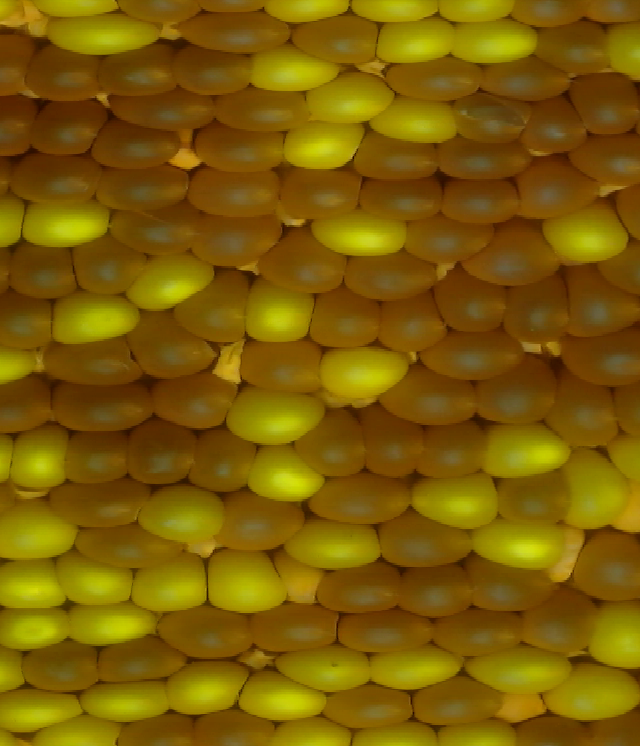fluorescent: (201, 542, 287, 615), (538, 197, 628, 265), (223, 386, 324, 446), (460, 641, 578, 692), (540, 662, 640, 721), (408, 467, 502, 529), (128, 551, 215, 616), (276, 640, 374, 697), (232, 669, 328, 727), (560, 446, 627, 529), (470, 513, 569, 569), (134, 482, 225, 542), (284, 517, 383, 572), (129, 250, 218, 311), (478, 421, 570, 479), (40, 12, 164, 55), (243, 273, 318, 344), (320, 343, 409, 402), (241, 440, 327, 500), (309, 207, 409, 258), (306, 68, 398, 123), (48, 291, 140, 345), (163, 661, 251, 717), (364, 645, 468, 692), (250, 42, 345, 92), (58, 547, 134, 608), (78, 676, 172, 725), (0, 501, 78, 560), (371, 97, 468, 144), (64, 602, 159, 648), (447, 17, 539, 64), (283, 119, 365, 171), (371, 17, 458, 65), (22, 197, 108, 245), (585, 599, 640, 674), (8, 423, 69, 490), (0, 555, 69, 613), (0, 688, 83, 732), (0, 607, 74, 649), (607, 17, 640, 81), (0, 338, 36, 390), (0, 1, 30, 28)
nonfluorescent: (383, 361, 486, 430), (127, 304, 218, 381), (50, 378, 163, 435), (380, 507, 483, 568), (461, 225, 556, 290), (566, 258, 640, 340), (478, 360, 567, 427), (153, 607, 257, 664), (514, 158, 603, 224), (308, 471, 411, 527), (221, 491, 317, 551), (186, 160, 284, 218), (397, 674, 506, 725), (177, 10, 293, 57), (20, 638, 117, 694), (126, 415, 196, 492), (40, 340, 147, 390), (260, 227, 344, 290), (464, 555, 553, 614), (576, 530, 640, 612), (317, 561, 413, 615), (293, 414, 371, 480), (46, 482, 151, 531), (384, 54, 486, 104), (551, 378, 623, 448), (153, 371, 237, 431), (331, 607, 436, 655), (563, 327, 640, 392), (566, 68, 640, 135), (366, 401, 427, 482), (344, 251, 437, 304), (97, 160, 191, 212), (11, 148, 98, 204), (526, 597, 611, 654), (113, 85, 218, 131), (440, 265, 510, 334), (190, 427, 261, 495), (90, 117, 186, 167), (94, 635, 190, 685), (350, 131, 444, 182), (76, 524, 187, 567), (508, 271, 576, 341), (428, 334, 531, 380), (250, 598, 341, 650), (531, 18, 611, 77), (241, 335, 321, 394), (283, 164, 364, 222), (10, 240, 81, 305), (193, 212, 280, 265), (213, 85, 310, 132), (193, 122, 286, 171), (323, 682, 416, 731), (178, 277, 248, 342), (58, 430, 136, 488), (398, 562, 476, 620), (67, 238, 146, 295), (288, 15, 378, 65), (34, 95, 106, 157), (434, 605, 531, 651), (437, 132, 528, 180), (494, 474, 576, 527), (21, 44, 101, 98), (171, 45, 254, 97), (94, 45, 177, 97), (411, 210, 496, 260), (378, 292, 451, 350), (106, 207, 196, 254), (437, 177, 524, 225), (453, 94, 536, 144), (316, 290, 383, 351), (423, 422, 491, 482), (358, 177, 446, 222), (568, 135, 640, 188), (521, 97, 586, 155), (484, 58, 570, 101), (0, 290, 58, 352), (190, 705, 276, 745), (0, 378, 56, 435), (516, 712, 603, 746), (116, 711, 200, 746), (0, 94, 40, 160), (601, 240, 640, 295), (594, 707, 640, 746)
